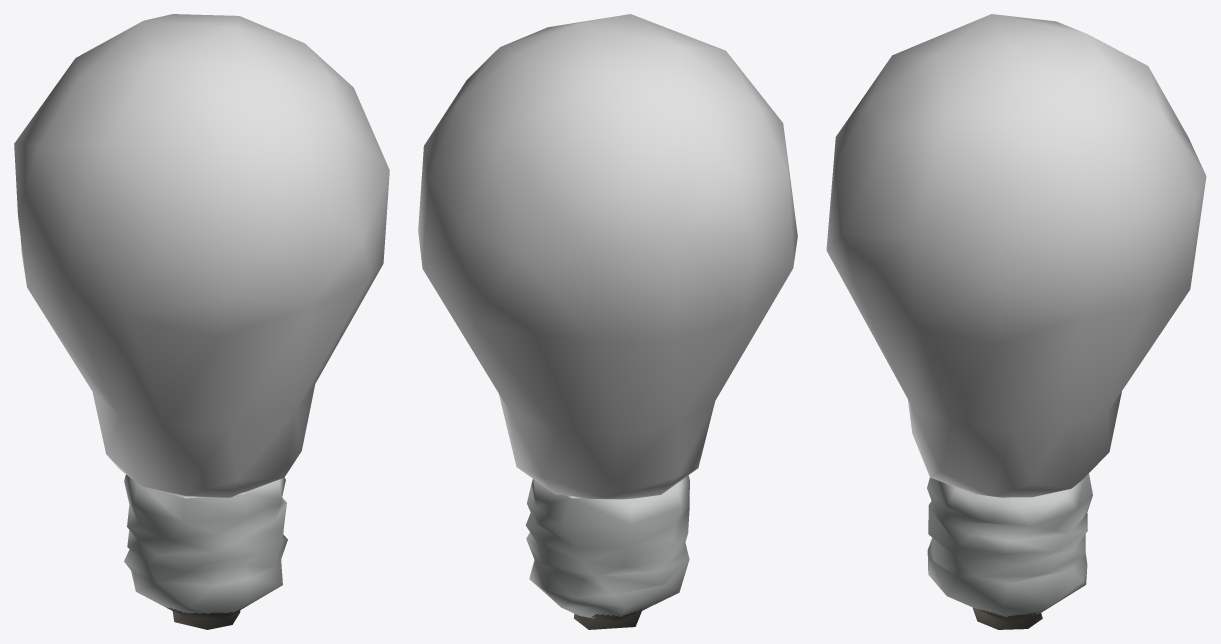
File: bulb.glb
The picture shows the model from 3 angles, left to right: view 1: azimuth 30°, elevation 25°; view 2: azimuth 150°, elevation 25°; view 3: azimuth 270°, elevation 25°; orthographic projection.
Parts seen in each view (by area): view 1: glass, socket; view 2: glass, socket; view 3: glass, socket.
Boxes of the visible parts, x1,y1,x2,y2 form: glass: (14, 14, 389, 497); socket: (124, 474, 287, 629); glass: (418, 14, 797, 499); socket: (525, 475, 689, 629); glass: (826, 14, 1206, 497); socket: (927, 473, 1092, 629).
Bounding box in the file's own units: 0.0653 × 0.1099 × 0.065.
2 materials, 1 textured.
